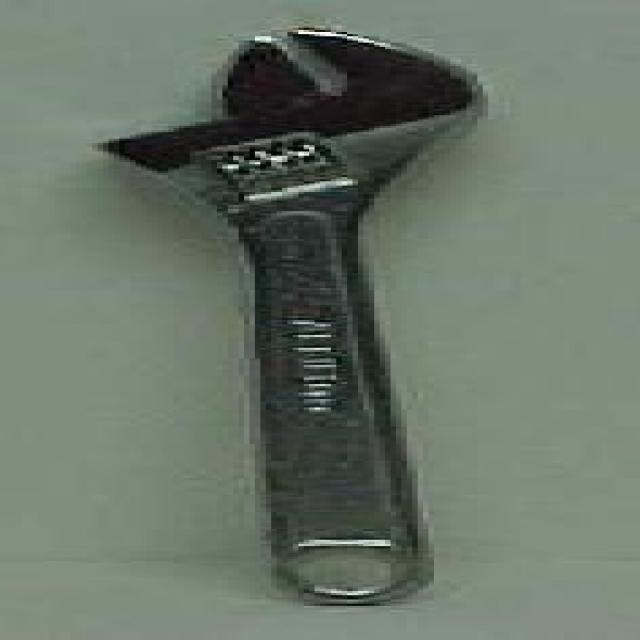wrench: (42, 14, 640, 640)
